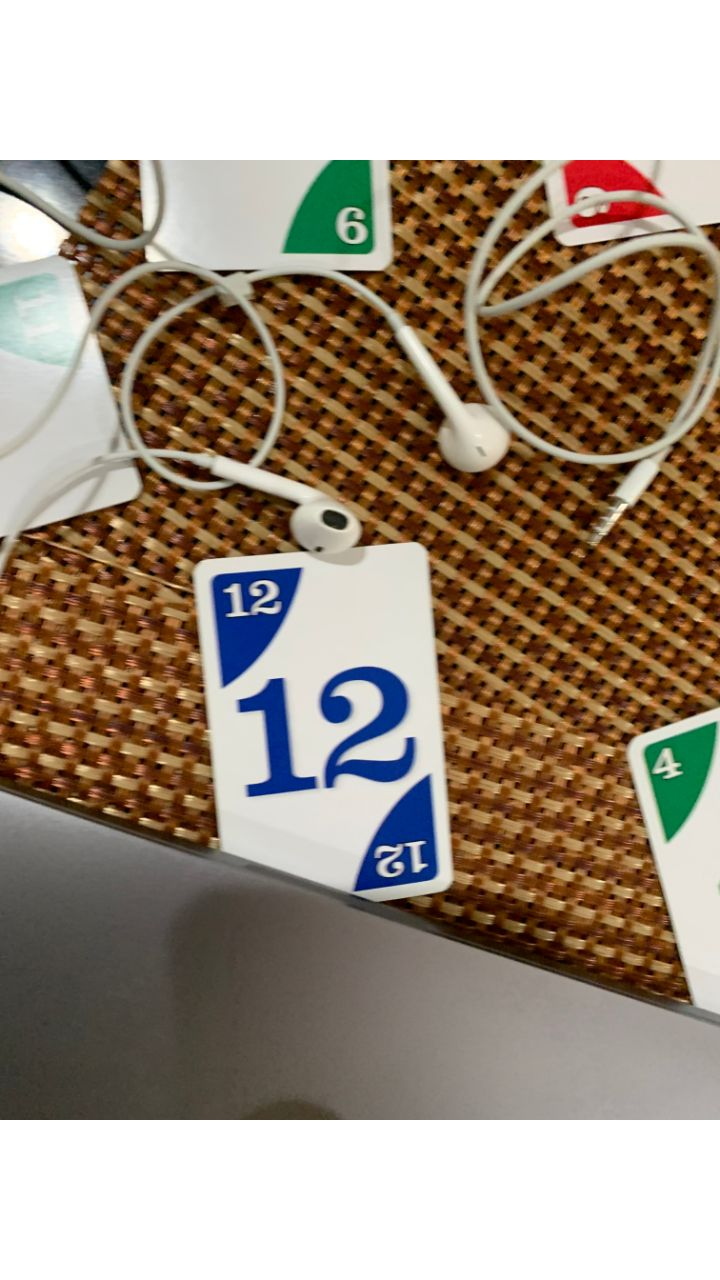twelve: (196, 539, 458, 913)
